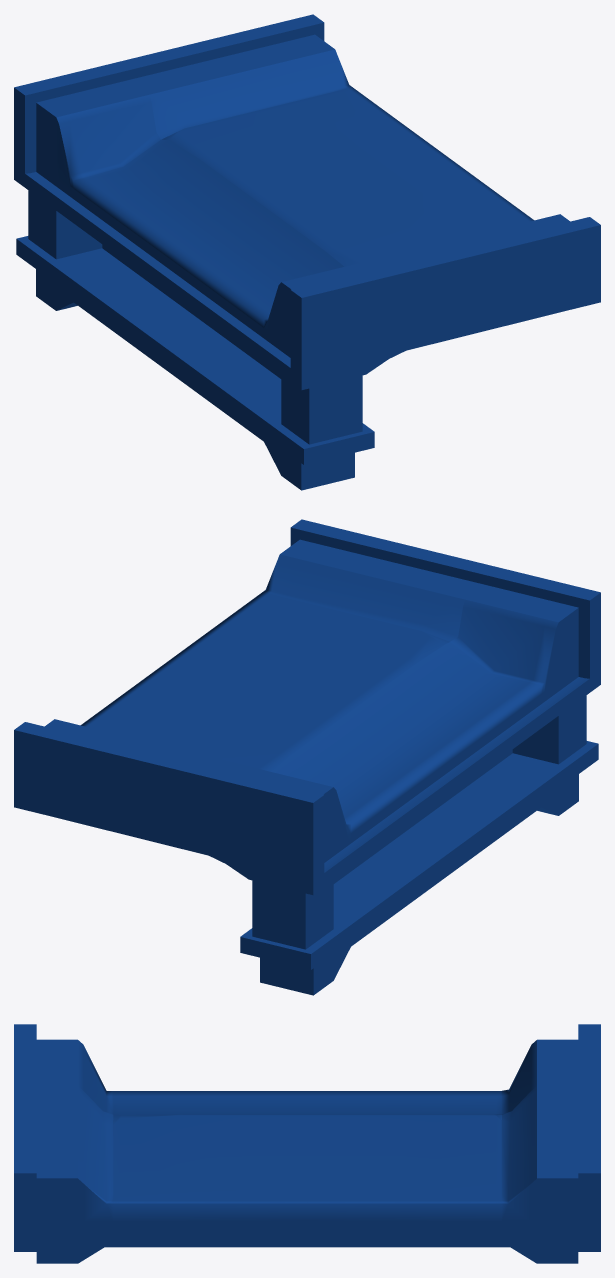
File: BridgeConnector.fbx
The picture shows the model from 3 angles, top to bottom: view 1: azimuth 30°, elevation 25°; view 2: azimuth 150°, elevation 25°; view 3: azimuth 270°, elevation 25°; orthographic projection. The views are drawn at different scales.
Parts seen in each view (by area): view 1: BridgeConnector; view 2: BridgeConnector; view 3: BridgeConnector.
Part boxes in pixels (left/top/right/bottom): BridgeConnector: left=14, top=14, right=600, bottom=490; BridgeConnector: left=14, top=519, right=600, bottom=995; BridgeConnector: left=14, top=1024, right=600, bottom=1263.
Size of the model in its own units: 633 by 411 by 1054.
